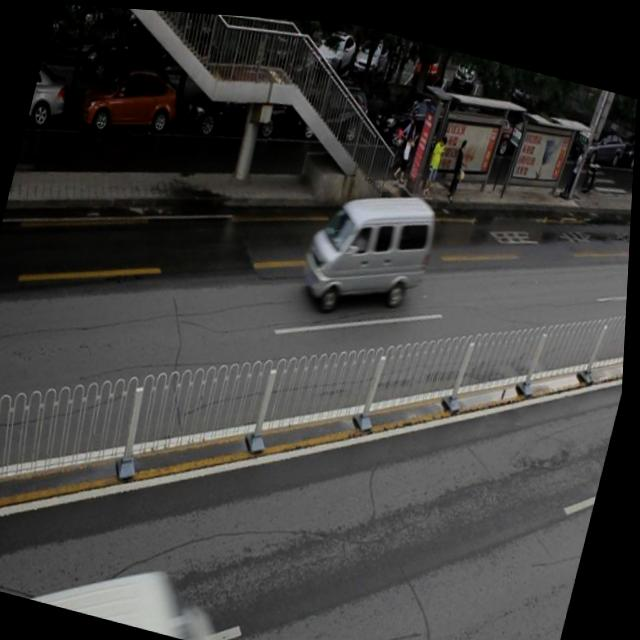car: (77, 55, 184, 146), (184, 71, 290, 146), (286, 71, 375, 148), (369, 80, 457, 154), (27, 61, 76, 133)
truck: (0, 524, 255, 640), (296, 163, 445, 327)
